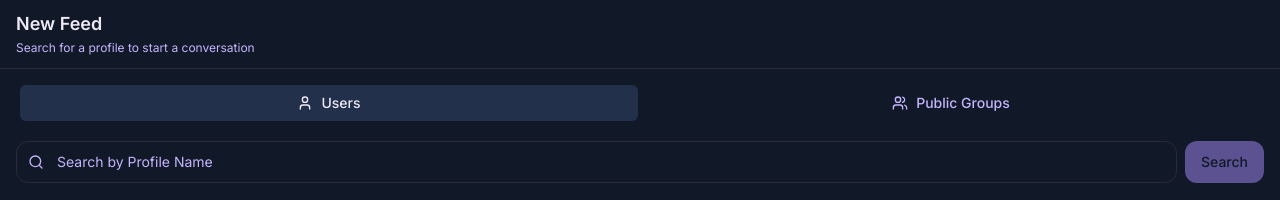
NewChatView › Users Tab Content › should enable search button when query is entered
Type "alice" into the field with placeholder "Search by Profile Name". click: coordinates (596, 162)
box: [16, 141, 1177, 183]
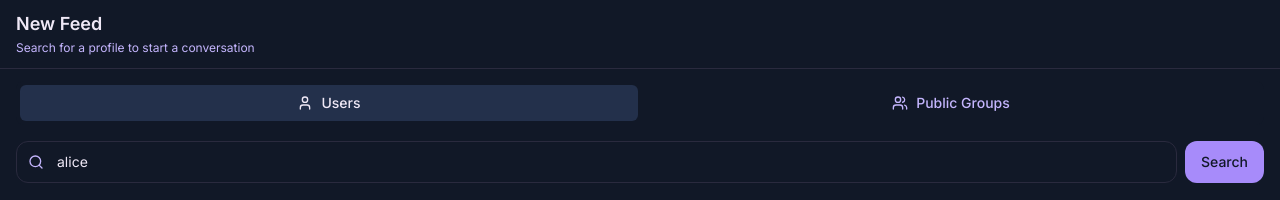
Expected: the button is enabled, [1185, 141, 1264, 183]
